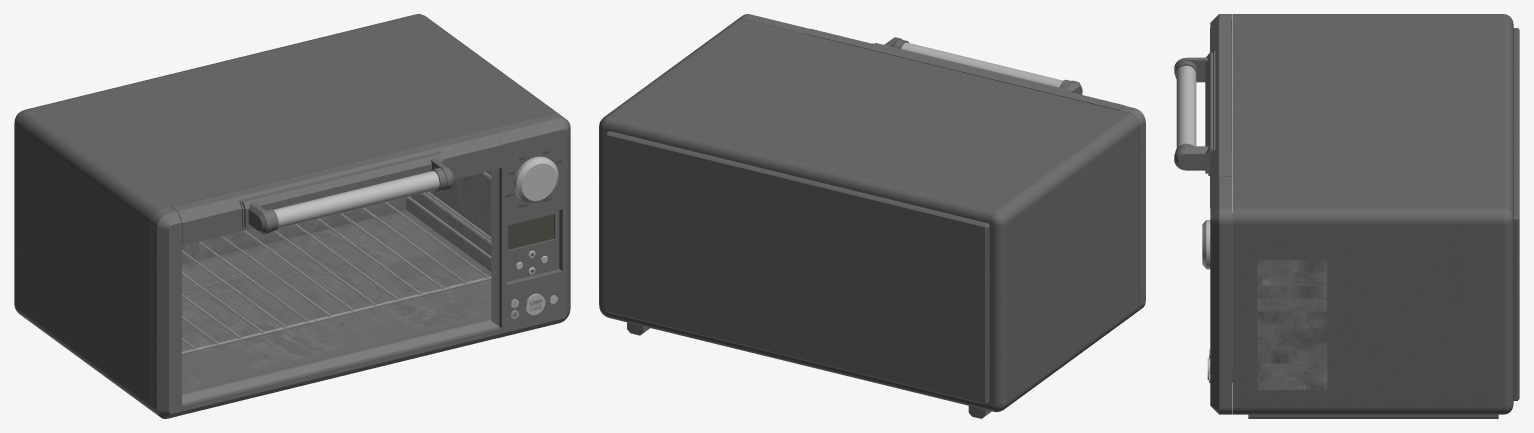
The model's file is microoven.glb.
The picture shows the model from 3 angles, left to right: view 1: azimuth 30°, elevation 25°; view 2: azimuth 150°, elevation 25°; view 3: azimuth 270°, elevation 25°; orthographic projection. The views are drawn at different scales.
Parts seen in each view (by area): view 1: MicroOven; view 2: MicroOven; view 3: MicroOven.
Part boxes in pixels (x1=…): MicroOven: x1=14, y1=14, x2=570, y2=418; MicroOven: x1=599, y1=14, x2=1145, y2=418; MicroOven: x1=1174, y1=14, x2=1519, y2=418.
Size of the model in its own units: 0.3763 by 0.1898 by 0.27.
2 materials, 1 textured.
